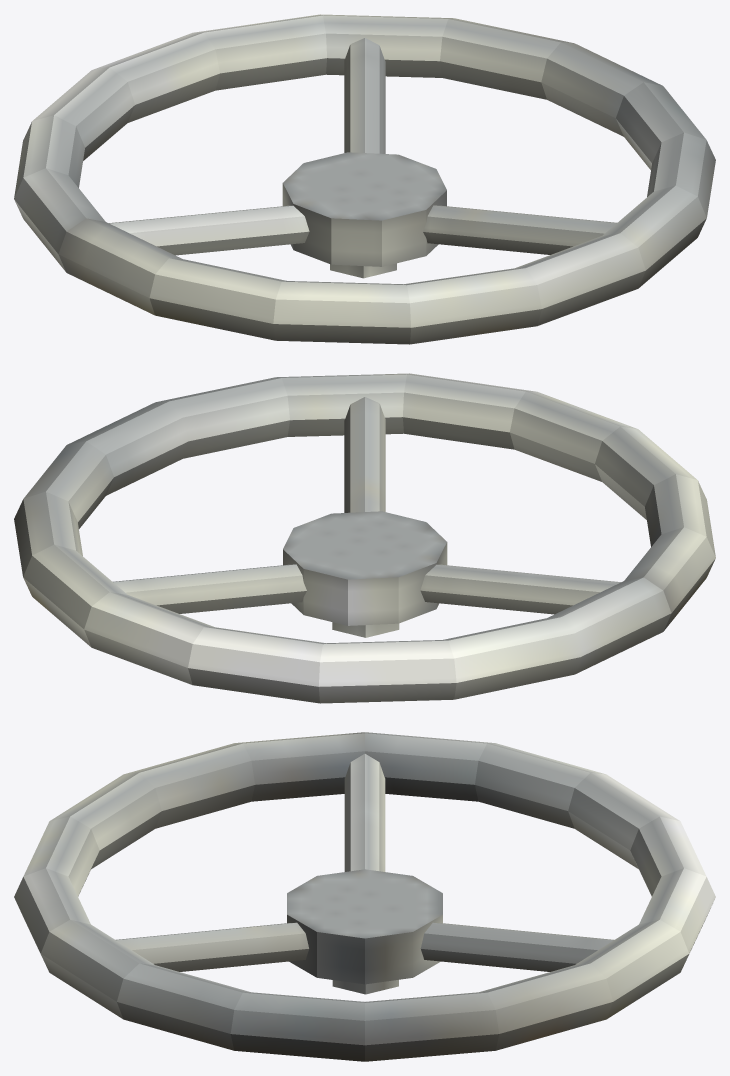
File: 旁通阀.obj
The picture shows the model from 3 angles, top to bottom: view 1: azimuth 30°, elevation 25°; view 2: azimuth 150°, elevation 25°; view 3: azimuth 270°, elevation 25°; orthographic projection.
Parts seen in each view (by area): view 1: default007; view 2: default007; view 3: default007.
Part boxes in pixels (box(x1,y1,x2,y2)): default007: box(14, 14, 715, 344); default007: box(14, 373, 715, 703); default007: box(14, 732, 715, 1061).
Bounding box in the file's own units: 1.29 × 0.2242 × 1.29.
